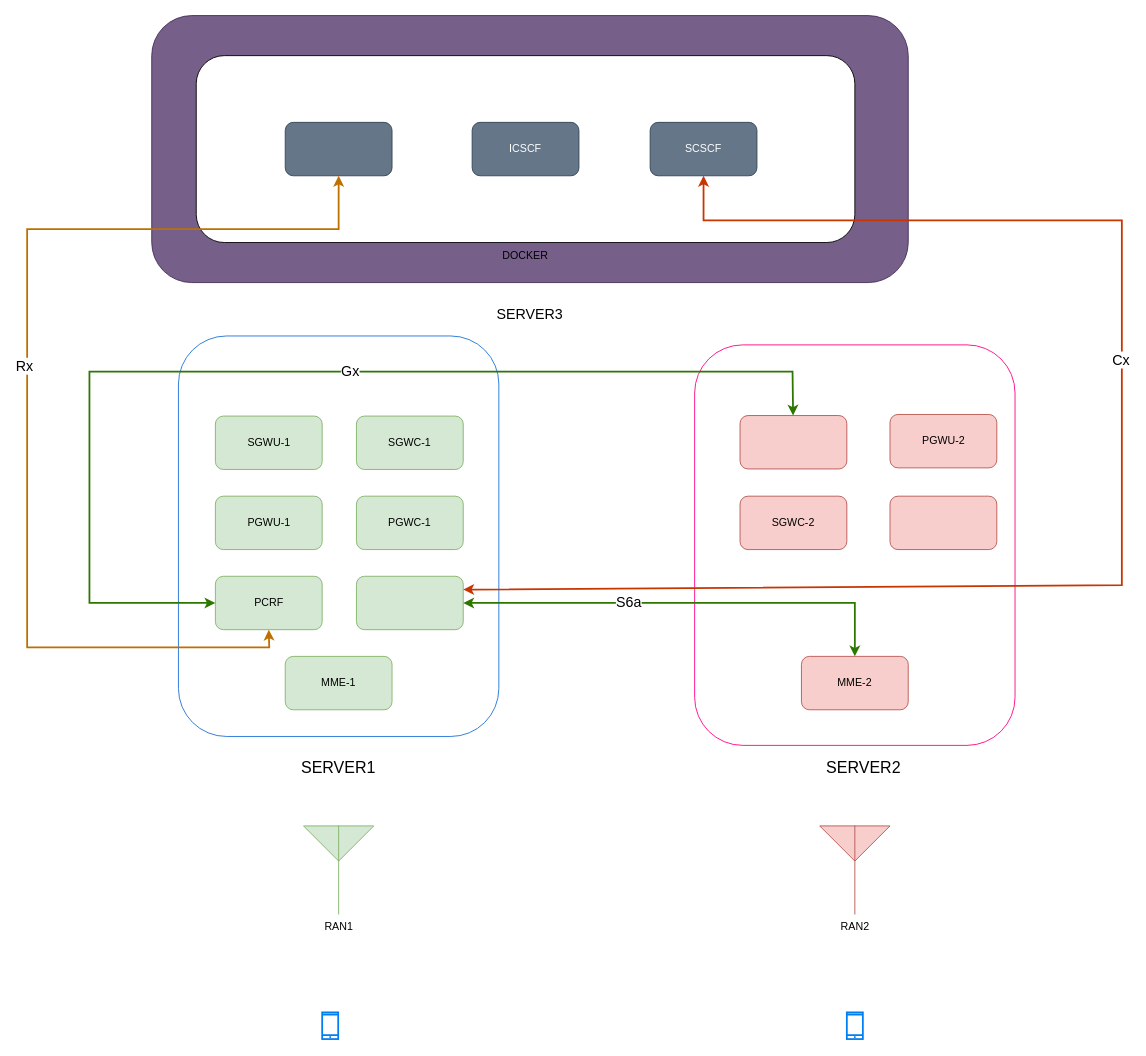
The diagram is 1146 pixels wide and 1056 high, and some of its shapes have lost their labels. The box of each missing label's shape, as (x1, y1, x2, y2) in pixels:
HSS: (356, 575, 463, 630)
PCSCF: (284, 121, 392, 176)
PGWC-2: (739, 415, 847, 469)
SGWU-2: (889, 495, 997, 550)
